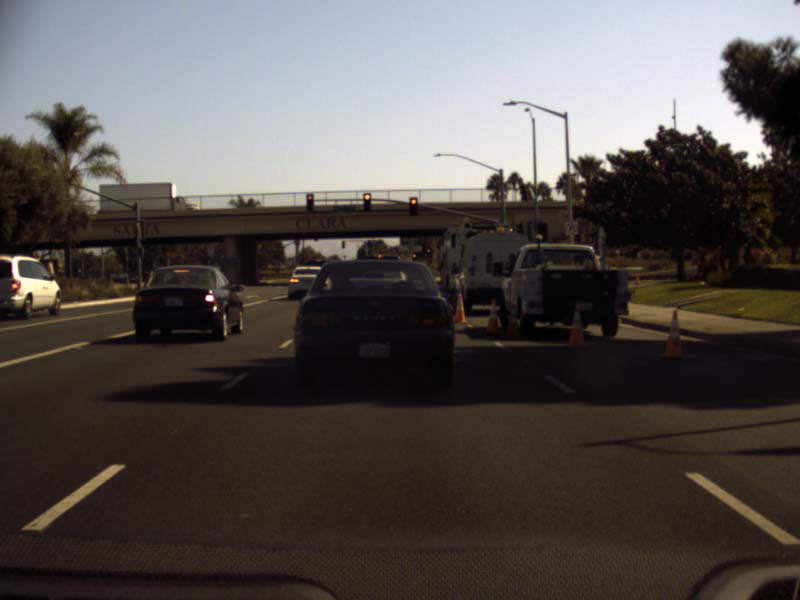Red: (409, 197, 417, 214), (363, 194, 370, 211), (307, 194, 313, 211)
